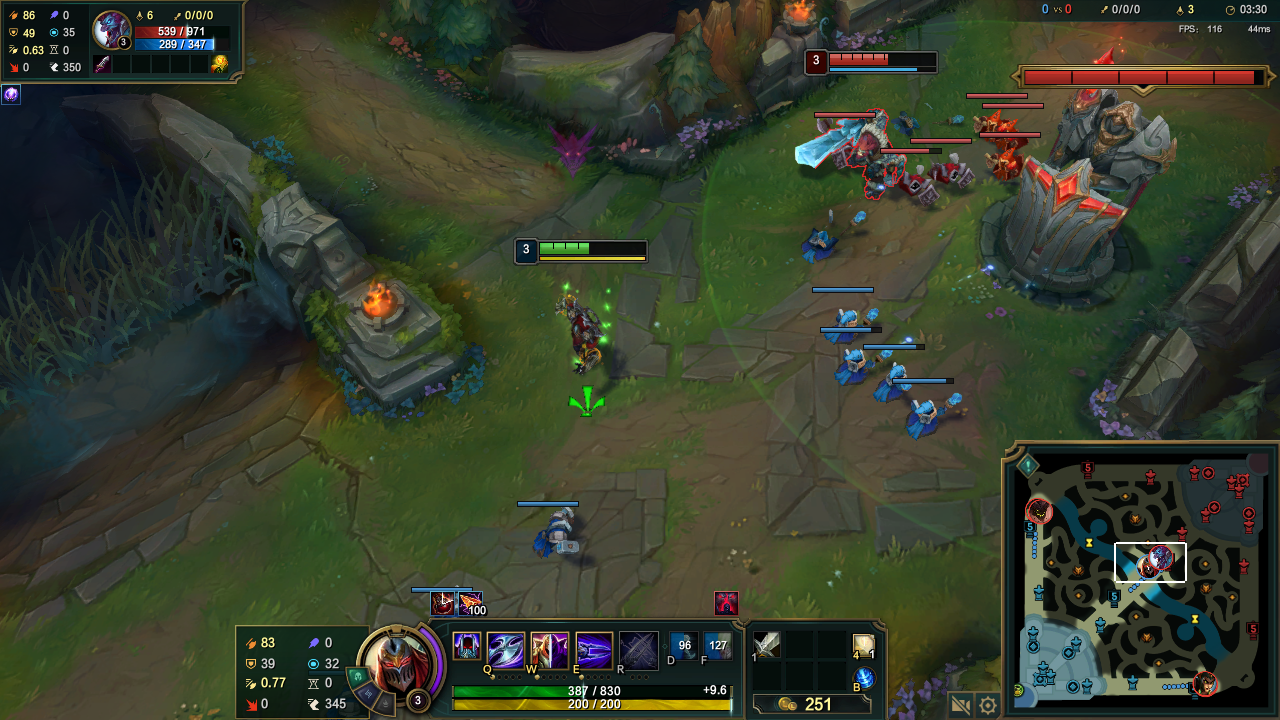DFYX: (826, 53, 936, 67)
